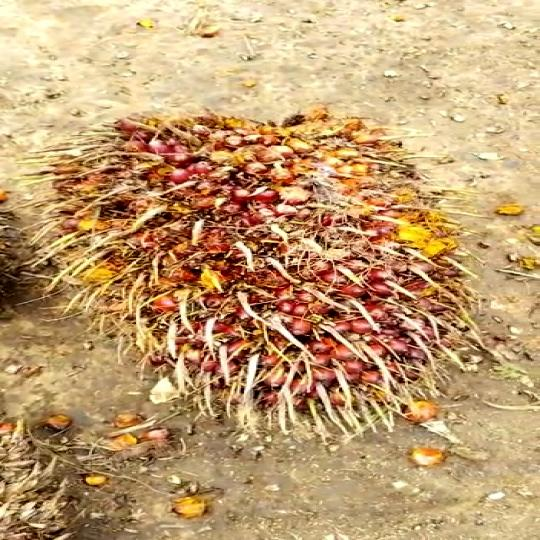masak: (47, 109, 514, 442)
